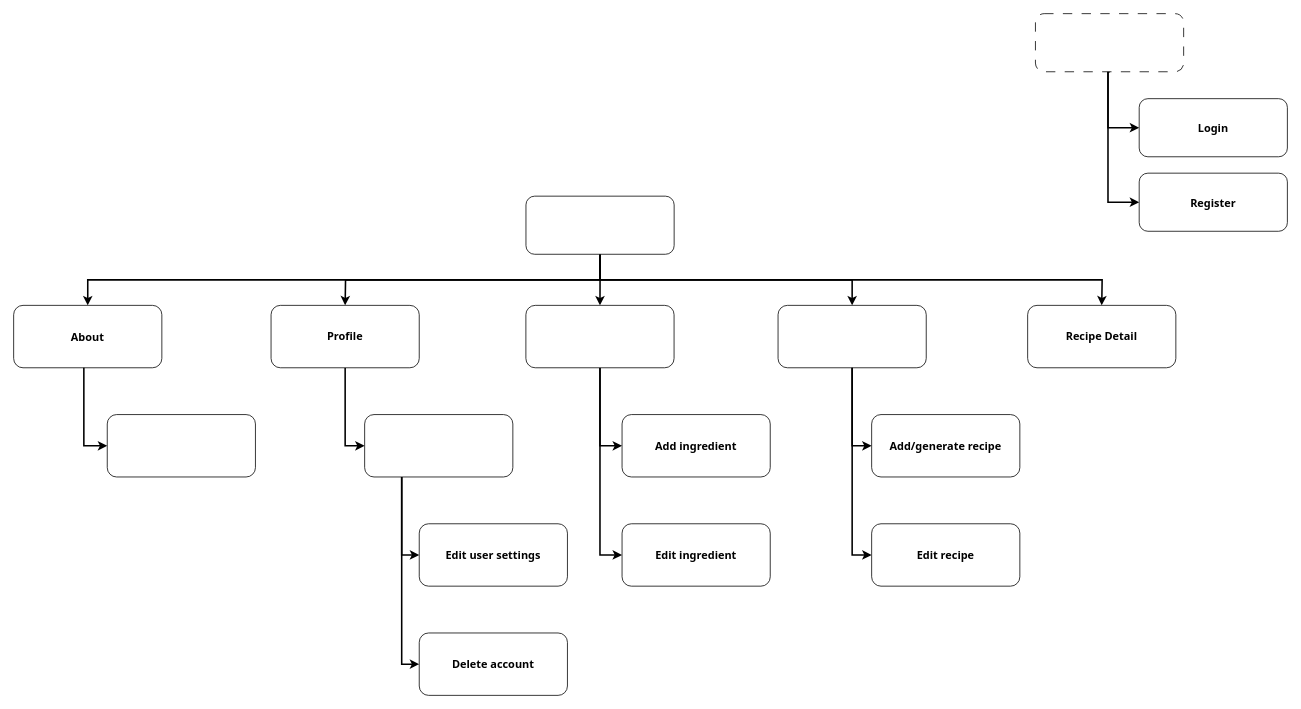
Some shapes in this 1301 by 709 pixel diagram are drawn without their labels. Here are the shapes that lost their labels. From the top down, the centre of each, then its label:
At pixel 1109 42: "User Account".
At pixel 599 224: "Browse all recipes".
At pixel 599 336: "My Fridge".
At pixel 851 336: "My Recipes".
At pixel 180 445: "Contact us".
At pixel 438 445: "User settings".
